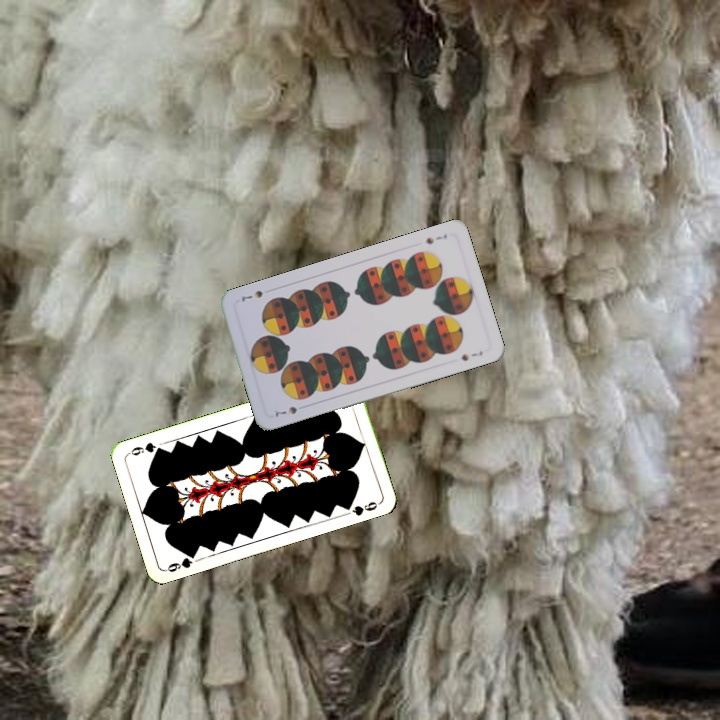G9: (162, 548, 199, 575)
S7: (269, 402, 300, 419), (422, 230, 450, 247)
